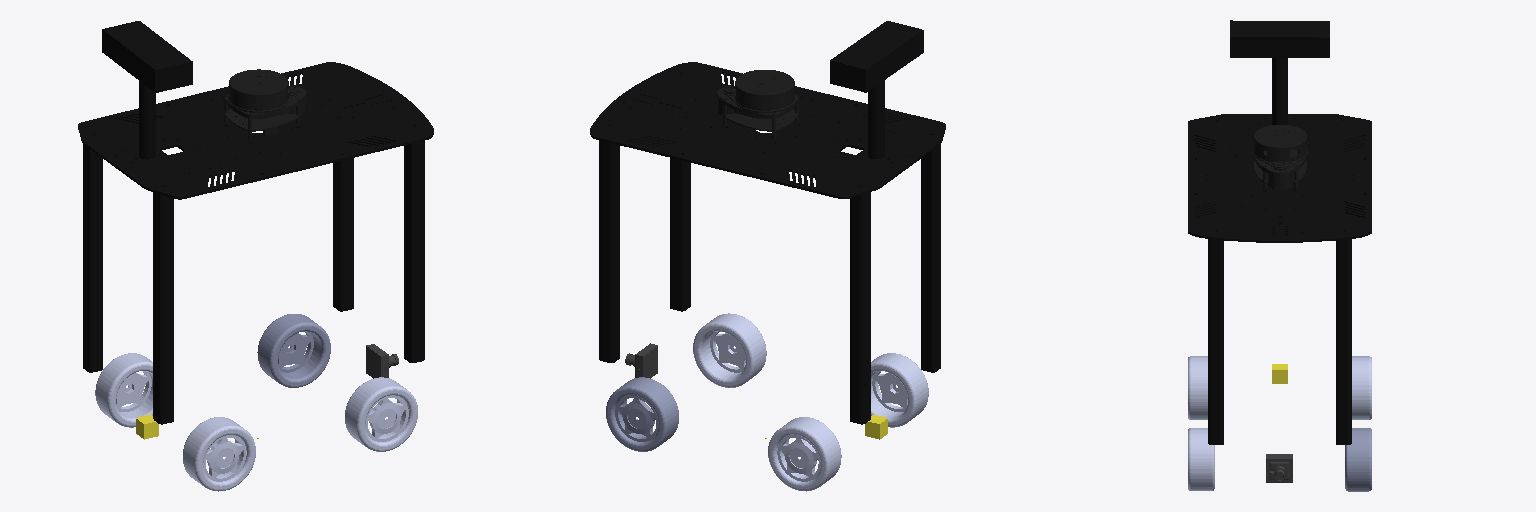
The robot description file, URDF, robot "wanderbot4W_description":
<?xml version="1.0" encoding="utf-8"?>
<robot
  name="wanderbot4W_description">
  <link name="base_footprint">
    <visual>
      <geometry>
          <sphere radius="0.001"/>
      </geometry>
    </visual>
  </link>
  <link
    name="base_link">
    <inertial>
      <origin
        xyz="-0.0046066 0.00020213 0.032597"
        rpy="0 0 0" />
      <mass
        value="1.0079" />
      <inertia
        ixx="0.0022232"
        ixy="-5.4197E-06"
        ixz="1.9875E-09"
        iyy="0.0060514"
        iyz="-9.5219E-07"
        izz="0.0081338" />
    </inertial>
    <visual>
      <origin
        xyz="0 0 0"
        rpy="0 0 0" />
      <geometry>
        <mesh
          filename="package://wanderbot4W_description/mesh/diff_4w/base_link.STL" />
      </geometry>
      <material
        name="">
        <color
          rgba="0.1 0.1 0.1 1" />
      </material>
    </visual>
    <collision>
      <origin
        xyz="0 0 0"
        rpy="0 0 0" />
      <geometry>
        <mesh
          filename="package://wanderbot4W_description/mesh/diff_4w/base_link.STL" />
      </geometry>
    </collision>
  </link>
  <joint name="baselink2basefootprint" type="fixed">
    <parent link="base_footprint"/>
    <child link="base_link"/>
    <origin xyz="0.0 0.0 0.03"/>
  </joint>
  <!-- 添加三楼 -->
  <link
    name="bracket_link">
    <inertial>
      <origin
        xyz="-0.0042701 1.2621E-05 -0.095635"
        rpy="0 0 0" />
      <mass
        value="0.71039" />
      <inertia
        ixx="0.0045868"
        ixy="9.8566E-07"
        ixz="8.5969E-20"
        iyy="0.0065441"
        iyz="-8.9654E-15"
        izz="0.0044039" />
    </inertial>
    <visual>
      <origin
        xyz="0 0 0"
        rpy="0 0 0" />
      <geometry>
        <mesh
          filename="package://wanderbot4W_description/mesh/diff_4w/bracket_link.STL" />
      </geometry>
      <material
        name="">
        <color
          rgba="0.1 0.1 0.1 1" />
      </material>
    </visual>
    <collision>
      <origin
        xyz="0 0 0"
        rpy="0 0 0" />
      <geometry>
        <mesh
          filename="package://wanderbot4W_description/mesh/diff_4w/bracket_link.STL" />
      </geometry>
    </collision>
  </link>
  <joint name="brachet2baselink" type="fixed">
    <parent link="base_link"/>
    <child link="bracket_link"/>
    <origin xyz="0.0 0.0 0.37"/>
  </joint>
  <link
    name="laser">
    <inertial>
      <origin
        xyz="0.0077192 0.00012032 -0.010702"
        rpy="0 0 0" />
      <mass
        value="0.16249" />
      <inertia
        ixx="7.2364E-05"
        ixy="2.8411E-07"
        ixz="1.5727E-05"
        iyy="0.0001121"
        iyz="-4.0098E-07"
        izz="0.00013004" />
    </inertial>
    <visual>
      <origin
        xyz="0 0 0"
        rpy="0 0 0" />
      <geometry>
        <mesh
          filename="package://wanderbot4W_description/mesh/diff_4w/laser_link.STL" />
      </geometry>
      <material
        name="">
        <color
          rgba="0.15 0.15 0.15 1" />
      </material>
    </visual>
    <collision>
      <origin
        xyz="0 0 0"
        rpy="0 0 0" />
      <geometry>
        <mesh
          filename="package://wanderbot4W_description/mesh/diff_4w/laser_link.STL" />
      </geometry>
    </collision>
  </link>
  <joint
    name="laser_joint"
    type="fixed">
    <origin
      xyz="-0.0 -0.0 0.05116"
      rpy="0 0 0" />
    <parent
      link="bracket_link" />
    <child
      link="laser" />
    <axis
      xyz="0 0 0" />
  </joint>
  <link
    name="camera">
    <inertial>
      <origin
        xyz="-0.020313 2.6086E-05 -1.2986E-09"
        rpy="0 0 0" />
      <mass
        value="0.018279" />
      <inertia
        ixx="3.2476E-06"
        ixy="-2.1188E-09"
        ixz="1.3504E-13"
        iyy="2.4033E-06"
        iyz="-2.3775E-13"
        izz="2.3911E-06" />
    </inertial>
    <visual>
      <origin
        xyz="0 0 0"
        rpy="0 0 0" />
      <geometry>
        <mesh
          filename="package://wanderbot4W_description/mesh/diff_4w/camera_link.STL" />
      </geometry>
      <material
        name="">
        <color
          rgba="0.3 0.3 0.3 1" />
      </material>
    </visual>
    <collision>
      <origin
        xyz="0 0 0"
        rpy="0 0 0" />
      <geometry>
        <mesh
          filename="package://wanderbot4W_description/mesh/diff_4w/camera_link.STL" />
      </geometry>
    </collision>
  </link>
  <joint
    name="camera_joint"
    type="fixed">
    <origin
      xyz="0.18522 -0.00046229 0.0293"
      rpy="0 0 0" />
    <parent
      link="base_link" />
    <child
      link="camera" />
    <axis
      xyz="0 0 0" />
  </joint>

  <!-- astra_caster -->
  <link name="astra_caster_link">
    <visual>
      <material name="">
        <color rgba="0.1 0.1 0.1 1" />
      </material>
      <origin xyz="0.0 0.0 0.0" rpy="0.0 0.0 0.0"/>
      <geometry>
        <cylinder radius="0.01" length="0.135"/>
      </geometry>
    </visual>
  </link>
  <joint name="astra_caster_joint" type="fixed">
    <origin xyz="-0.15 0.0 0.43" rpy="0.0 0.0 0.0"/>
    <parent link="base_link"/>
    <child link="astra_caster_link"/>
    <axis xyz="0.0 0.0 0.0"/>
    <limit lower="0.0" upper="0.0" effort="0.0" velocity="0.0"/>
  </joint>

  <!-- astra_pro -->
  <link name="astra_pro_link">
    <visual>
      <material name="">
        <color rgba="0.1 0.1 0.1 1" />
      </material>
      <origin xyz="0.0 0.0 0.0" rpy="0.0 0.0 1.55"/>
      <geometry>
        <box size="0.13 0.05 0.03"/>
      </geometry>
    </visual>
  </link>
  <joint name="astra_camera_joint" type="fixed">
    <origin xyz="-0.15 0.0 0.5" rpy="0.0 0.0 0.0"/>
    <parent link="base_link"/>
    <child link="astra_pro_link"/>
    <axis xyz="0.0 0.0 0.0"/>
  </joint>

  <link
    name="left_former_link">
    <inertial>
      <origin
        xyz="-1.5266E-16 -0.0071412 1.1102E-16"
        rpy="0 0 0" />
      <mass
        value="0.10264" />
      <inertia
        ixx="7.0079E-05"
        ixy="6.4133E-20"
        ixz="2.2674E-19"
        iyy="0.00012111"
        iyz="-6.165E-20"
        izz="7.0079E-05" />
    </inertial>
    <visual>
      <origin
        xyz="0 0 0"
        rpy="0 0 0" />
      <geometry>
        <mesh
          filename="package://wanderbot4W_description/mesh/diff_4w/left_former_link.STL" />
      </geometry>
      <material
        name="">
        <color
          rgba="0.59216 0.61961 0.73333 1" />
      </material>
    </visual>
    <collision>
      <origin
        xyz="0 0 0"
        rpy="0 0 0" />
      <geometry>
        <mesh
          filename="package://wanderbot4W_description/mesh/diff_4w/left_former_link.STL" />
      </geometry>
    </collision>
  </link>
  <joint
    name="left_former_joint"
    type="continuous">
    <origin
      xyz="0.10837 0.11101 0.017306"
      rpy="0 0 0" />
    <parent
      link="base_link" />
    <child
      link="left_former_link" />
    <axis
      xyz="0 1 0" />
  </joint>
  <link
    name="left_rear_link">
    <inertial>
      <origin
        xyz="-8.3267E-17 -0.0071412 1.1102E-16"
        rpy="0 0 0" />
      <mass
        value="0.10264" />
      <inertia
        ixx="7.0079E-05"
        ixy="6.4582E-20"
        ixz="2.2701E-19"
        iyy="0.00012111"
        iyz="-6.1351E-20"
        izz="7.0079E-05" />
    </inertial>
    <visual>
      <origin
        xyz="0 0 0"
        rpy="0 0 0" />
      <geometry>
        <mesh
          filename="package://wanderbot4W_description/mesh/diff_4w/left_rear_link.STL" />
      </geometry>
      <material
        name="">
        <color
          rgba="0.79216 0.81961 0.93333 1" />
      </material>
    </visual>
    <collision>
      <origin
        xyz="0 0 0"
        rpy="0 0 0" />
      <geometry>
        <mesh
          filename="package://wanderbot4W_description/mesh/diff_4w/left_rear_link.STL" />
      </geometry>
    </collision>
  </link>
  <joint
    name="left_rear_joint"
    type="continuous">
    <origin
      xyz="-0.11163 0.11101 0.017306"
      rpy="0 0 0" />
    <parent
      link="base_link" />
    <child
      link="left_rear_link" />
    <axis
      xyz="0 1 0" />
  </joint>
  <link
    name="right_former_link">
    <inertial>
      <origin
        xyz="4.1633E-17 0.0071412 2.7756E-16"
        rpy="0 0 0" />
      <mass
        value="0.10264" />
      <inertia
        ixx="7.0079E-05"
        ixy="3.1736E-20"
        ixz="-1.4488E-19"
        iyy="0.00012111"
        iyz="5.3239E-20"
        izz="7.0079E-05" />
    </inertial>
    <visual>
      <origin
        xyz="0 0 0"
        rpy="0 0 0" />
      <geometry>
        <mesh
          filename="package://wanderbot4W_description/mesh/diff_4w/right_former_link.STL" />
      </geometry>
      <material
        name="">
        <color
          rgba="0.79216 0.81961 0.93333 1" />
      </material>
    </visual>
    <collision>
      <origin
        xyz="0 0 0"
        rpy="0 0 0" />
      <geometry>
        <mesh
          filename="package://wanderbot4W_description/mesh/diff_4w/right_former_link.STL" />
      </geometry>
    </collision>
  </link>
  <joint
    name="right_former_joint"
    type="continuous">
    <origin
      xyz="0.10837 -0.11099 0.017306"
      rpy="0 0 0" />
    <parent
      link="base_link" />
    <child
      link="right_former_link" />
    <axis
      xyz="0 1 0" />
  </joint>
  <link
    name="right_rear_link">
    <inertial>
      <origin
        xyz="5.5511E-17 0.0071412 0"
        rpy="0 0 0" />
      <mass
        value="0.10264" />
      <inertia
        ixx="7.0079E-05"
        ixy="4.569E-20"
        ixz="-1.421E-19"
        iyy="0.00012111"
        iyz="6.4334E-20"
        izz="7.0079E-05" />
    </inertial>
    <visual>
      <origin
        xyz="0 0 0"
        rpy="0 0 0" />
      <geometry>
        <mesh
          filename="package://wanderbot4W_description/mesh/diff_4w/right_rear_link.STL" />
      </geometry>
      <material
        name="">
        <color
          rgba="0.79216 0.81961 0.93333 1" />
      </material>
    </visual>
    <collision>
      <origin
        xyz="0 0 0"
        rpy="0 0 0" />
      <geometry>
        <mesh
          filename="package://wanderbot4W_description/mesh/diff_4w/right_rear_link.STL" />
      </geometry>
    </collision>
  </link>
  <joint
    name="right_rear_joint"
    type="continuous">
    <origin
      xyz="-0.11163 -0.11099 0.017306"
      rpy="0 0 0" />
    <parent
      link="base_link" />
    <child
      link="right_rear_link" />
    <axis
      xyz="0 1 0" />
  </joint>

  <link name="imu_link">
    <visual>
      <origin xyz="0 0 0.0" rpy="0 0 0"/>
      <geometry>
            <box size="0.02 0.02 0.02"/>
      </geometry>
    </visual>
  </link>

  <!-- imu joint -->
  <joint name="imu_joint" type="fixed">
      <parent link="base_link" />
      <child link="imu_link" />
      <origin xyz="-0.15 0 0.02" />
  </joint>

  <!-- Gazebo plugin for differential drive -->
  <gazebo>
        <plugin name='diff_drive' filename='libgazebo_ros_diff_drive.so'>
            <ros>
            <namespace>/</namespace>
            <remapping>cmd_vel:=cmd_vel</remapping>
            <remapping>odom:=odom</remapping>
            </ros>
            <update_rate>30</update_rate>
            <!-- wheels -->
            <left_joint>left_rear_joint</left_joint>  <!-- Name of the left wheel joint -->
            <right_joint>right_rear_joint</right_joint>  <!-- Name of the right wheel joint -->
            <!-- kinematics -->
            <wheel_separation>0.5</wheel_separation>
            <wheel_diameter>0.15</wheel_diameter>
            <!-- limits -->
            <max_wheel_torque>20</max_wheel_torque>
            <max_wheel_acceleration>1.0</max_wheel_acceleration>
            <!-- output -->
            <publish_odom>true</publish_odom>
            <publish_odom_tf>true</publish_odom_tf>
            <publish_wheel_tf>false</publish_wheel_tf>
            <odometry_frame>odom</odometry_frame>
            <robot_base_frame>base_footprint</robot_base_frame>
        </plugin>
        <plugin name="wanderbot_joint_state" filename="libgazebo_ros_joint_state_publisher.so">
            <ros>
                <remapping>~/out:=joint_states</remapping>
            </ros>
            <update_rate>30</update_rate>
            <joint_name>left_rear_joint</joint_name>
            <joint_name>right_rear_joint</joint_name>
        </plugin> 
    </gazebo>

</robot>

--- What the picture shows (computed from the rendered views, not written in the file) ---
The picture shows the robot from 3 angles, left to right: view 1: azimuth 30°, elevation 25°; view 2: azimuth 150°, elevation 25°; view 3: azimuth 270°, elevation 25°; orthographic projection.
Robot: wanderbot4W_description — 12 links, 11 joints (4 continuous, 7 fixed); root link base_footprint; default pose: every joint at zero.
Visible links, largest first — view 1: bracket_link, laser, left_former_link, right_rear_link, astra_pro_link, right_former_link, left_rear_link, astra_caster_link, camera; view 2: bracket_link, astra_pro_link, right_former_link, left_former_link, left_rear_link, laser, right_rear_link, astra_caster_link, camera; view 3: bracket_link, astra_pro_link, laser, left_former_link, right_former_link, left_rear_link, right_rear_link, astra_caster_link, camera.
Boxes of the visible links, x1=… form: bracket_link: x1=78, y1=62, x2=433, y2=424; laser: x1=224, y1=69, x2=306, y2=139; left_former_link: x1=257, y1=314, x2=330, y2=387; right_rear_link: x1=183, y1=417, x2=255, y2=491; astra_pro_link: x1=102, y1=21, x2=192, y2=92; right_former_link: x1=345, y1=377, x2=417, y2=451; left_rear_link: x1=95, y1=353, x2=152, y2=427; astra_caster_link: x1=139, y1=81, x2=155, y2=159; camera: x1=366, y1=344, x2=398, y2=378; bracket_link: x1=590, y1=62, x2=945, y2=424; astra_pro_link: x1=830, y1=21, x2=923, y2=92; right_former_link: x1=693, y1=313, x2=766, y2=387; left_former_link: x1=606, y1=377, x2=678, y2=451; left_rear_link: x1=768, y1=417, x2=841, y2=491; laser: x1=717, y1=70, x2=798, y2=139; right_rear_link: x1=871, y1=353, x2=928, y2=427; astra_caster_link: x1=868, y1=80, x2=884, y2=158; camera: x1=625, y1=343, x2=657, y2=378; bracket_link: x1=1188, y1=114, x2=1371, y2=444; astra_pro_link: x1=1230, y1=20, x2=1329, y2=57; laser: x1=1253, y1=125, x2=1307, y2=189; left_former_link: x1=1345, y1=428, x2=1371, y2=491; right_former_link: x1=1188, y1=428, x2=1214, y2=490; left_rear_link: x1=1352, y1=356, x2=1371, y2=419; right_rear_link: x1=1188, y1=356, x2=1207, y2=419; astra_caster_link: x1=1272, y1=58, x2=1287, y2=124; camera: x1=1266, y1=454, x2=1292, y2=482.
Bounding box of the posed robot: 0.39 × 0.24 × 0.546 m (x, y, z).
Meshes: 8 distinct files referenced, 7 mesh visuals loaded (7 binary STL); not drawn: 1 (reference not matched to a file when rendering).